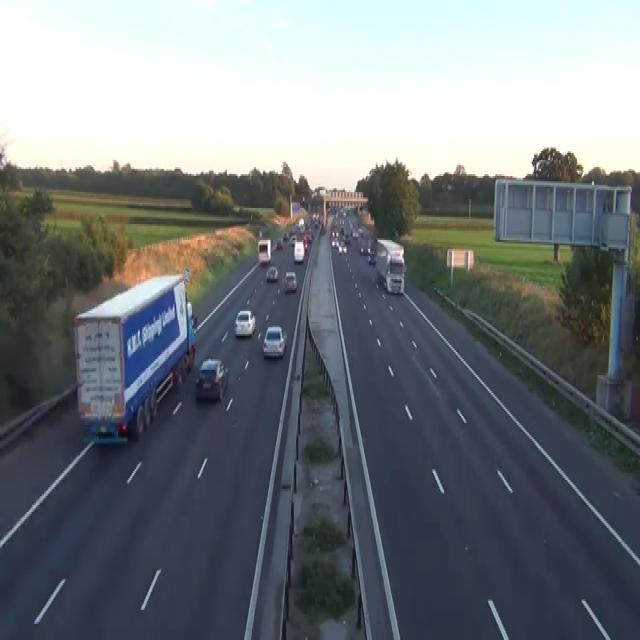Car: (194, 357, 228, 402), (262, 326, 286, 358), (233, 309, 255, 338), (282, 270, 297, 292), (186, 300, 197, 330), (265, 265, 278, 281), (367, 249, 375, 265), (337, 242, 347, 254), (191, 313, 197, 329), (331, 236, 338, 249), (276, 238, 283, 249), (290, 235, 296, 245), (359, 246, 366, 254), (352, 230, 358, 238), (283, 231, 288, 240), (258, 228, 262, 236)
Truck: (73, 272, 196, 443), (375, 237, 405, 295), (257, 238, 271, 263), (293, 240, 304, 261)
